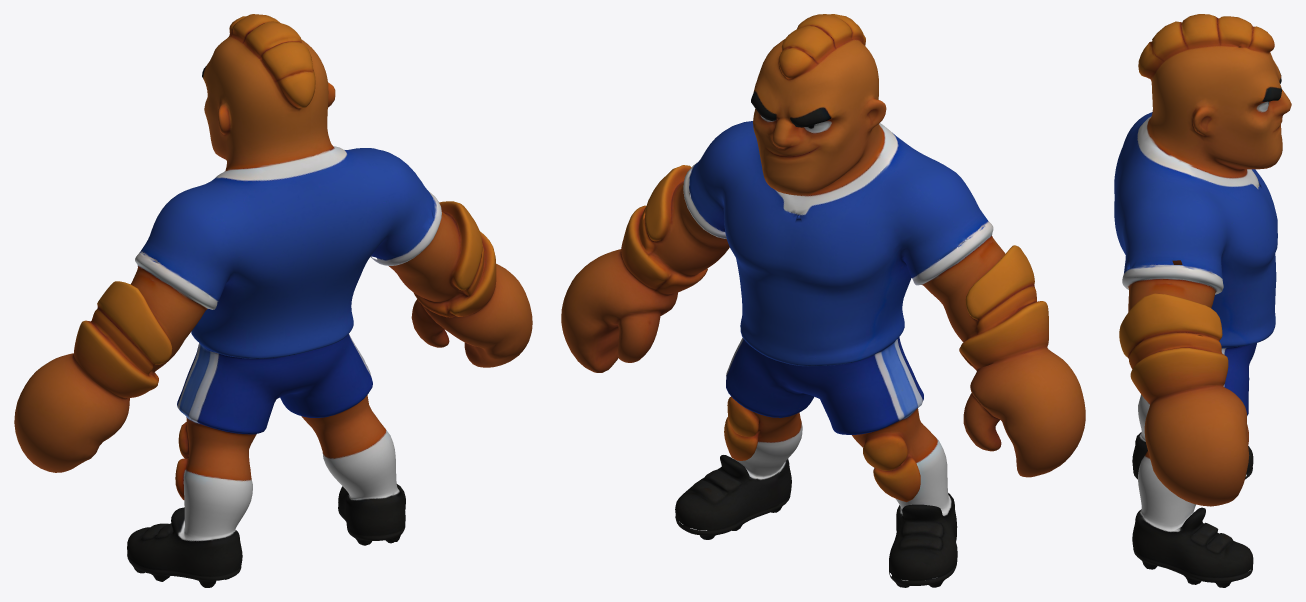
The model's file is coletazo.glb.
3 views of the same model, side by side, from view 1: azimuth 30°, elevation 25°; view 2: azimuth 150°, elevation 25°; view 3: azimuth 270°, elevation 25° (orthographic). The views are drawn at different scales.
Parts seen in each view (by area): view 1: char; view 2: char; view 3: char.
Part boxes in pixels (x1=…): char: x1=14, y1=14, x2=532, y2=587; char: x1=561, y1=14, x2=1085, y2=587; char: x1=1114, y1=14, x2=1291, y2=587.
Bounding box in the file's own units: 1.7 × 1.7 × 0.5326.
Materials: 1 (1 with a texture image).
